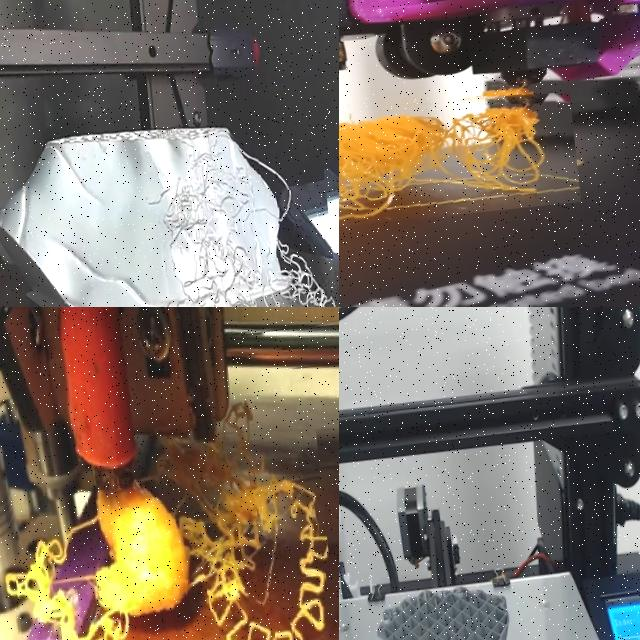spaghetti: (339, 70, 581, 241), (142, 433, 328, 640), (143, 118, 339, 307), (3, 519, 159, 640)
